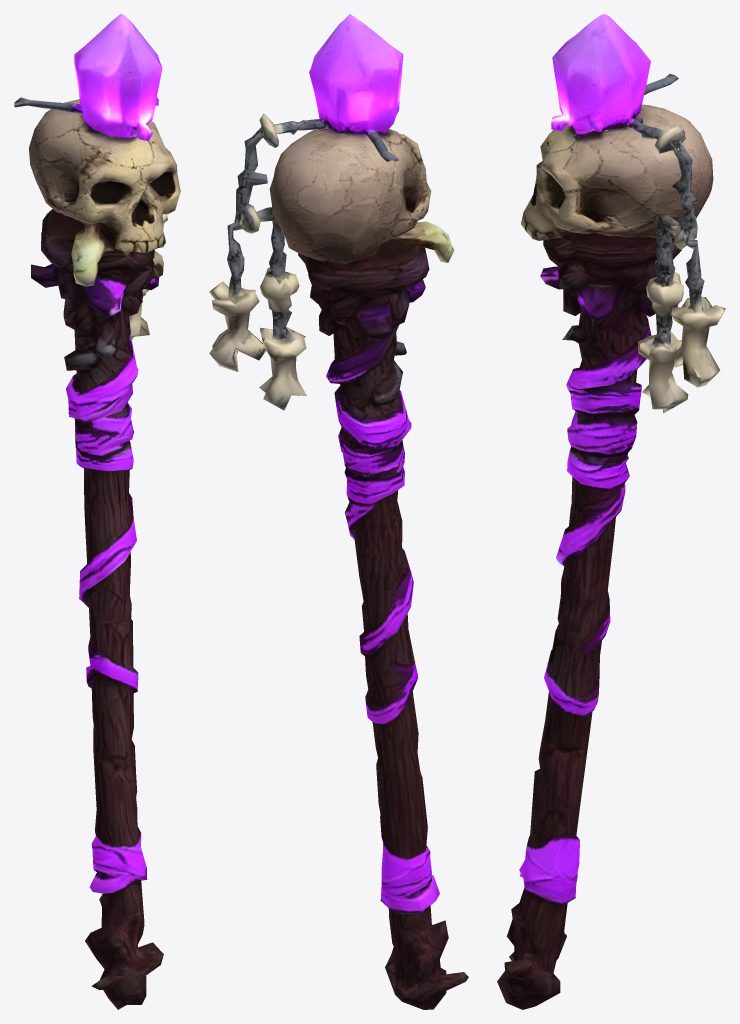
Rendered from Sk_Staff-1FcOc-Qw.glb.
3 views of the same model, side by side, from view 1: azimuth 30°, elevation 25°; view 2: azimuth 150°, elevation 25°; view 3: azimuth 270°, elevation 25° (orthographic). The views are drawn at different scales.
Parts seen in each view (by area): view 1: Sk_Staff; view 2: Sk_Staff; view 3: Sk_Staff.
Boxes of the visible parts, x1,y1,x2,y2 form: Sk_Staff: (14, 14, 180, 1009); Sk_Staff: (209, 14, 468, 1009); Sk_Staff: (497, 14, 725, 1009).
Bounding box in the file's own units: 0.373 × 2.1 × 0.4311.
1 material, 1 textured.
